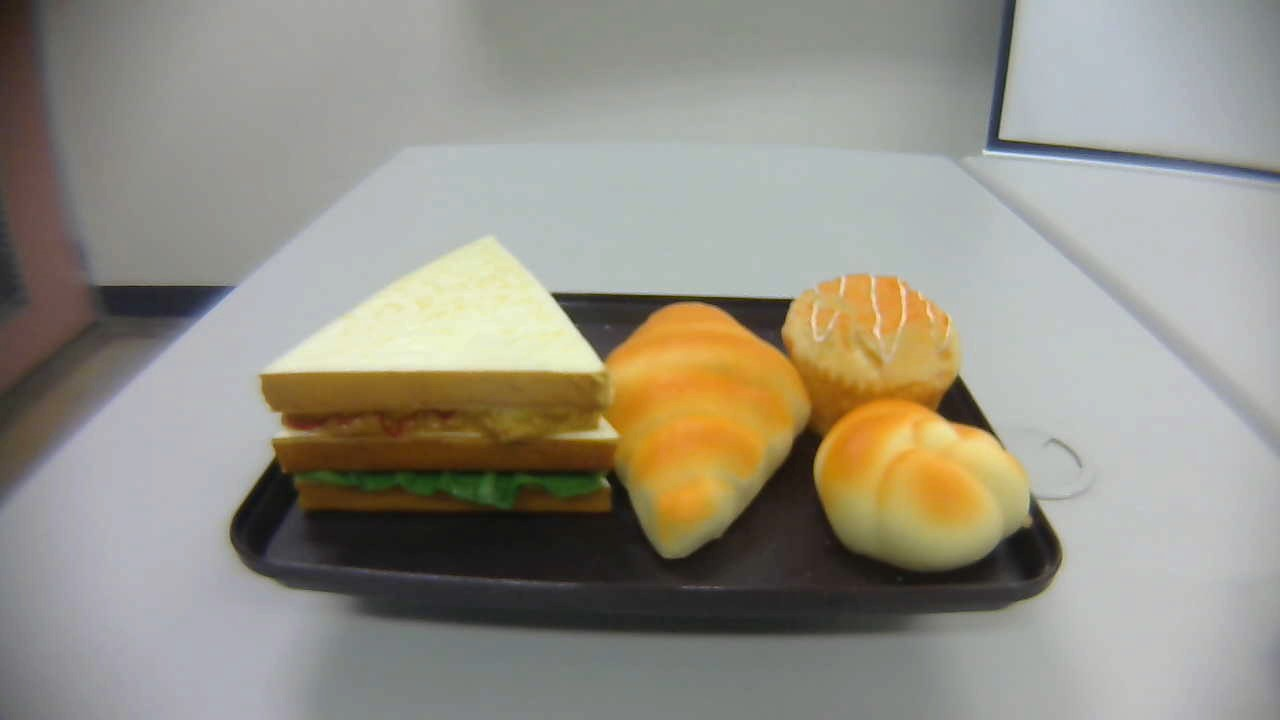croissant: (601, 299, 813, 563)
cupcake: (781, 274, 962, 438)
sandwich: (261, 236, 621, 514)
twist bread: (813, 398, 1033, 572)
